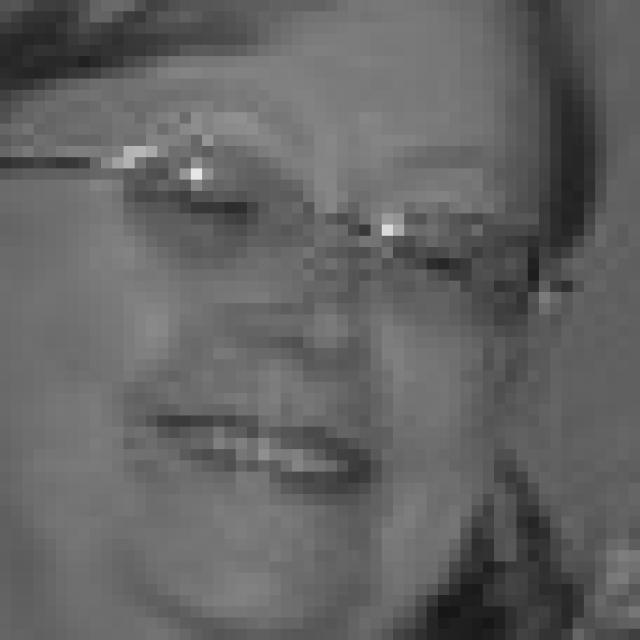real: (24, 16, 572, 626), (106, 114, 524, 334)
